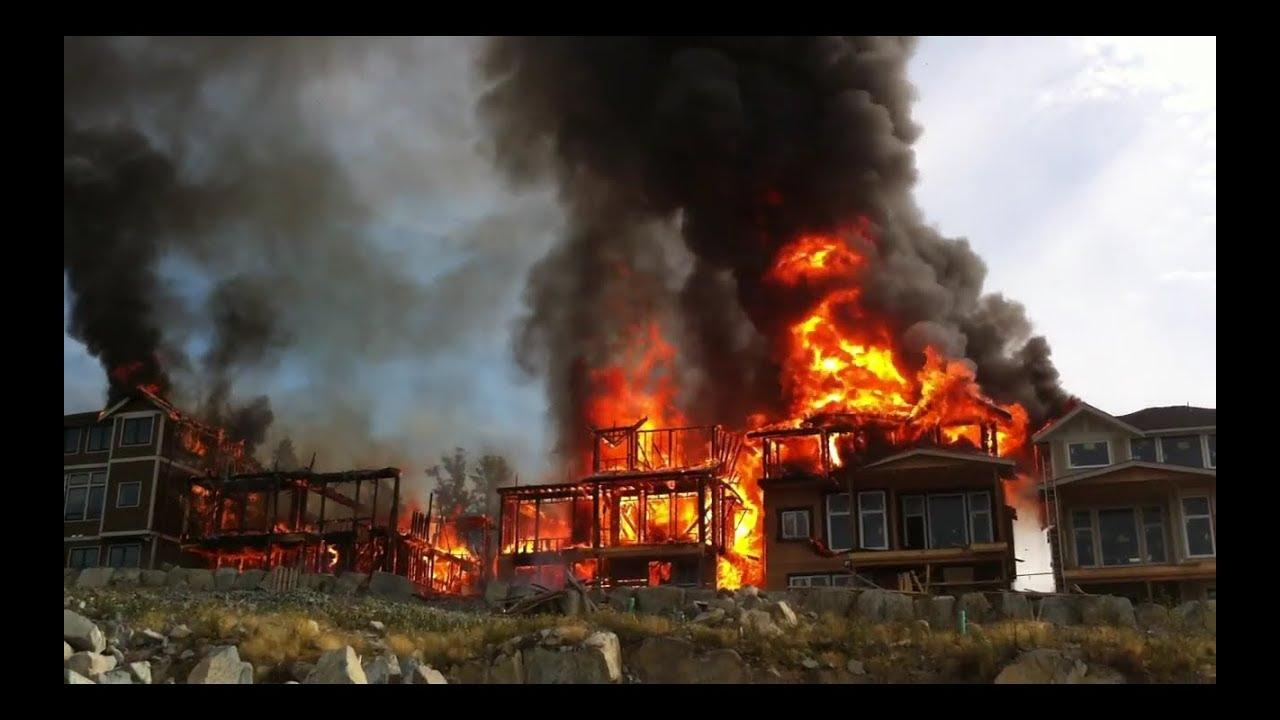Fire: (431, 212, 1052, 596)
